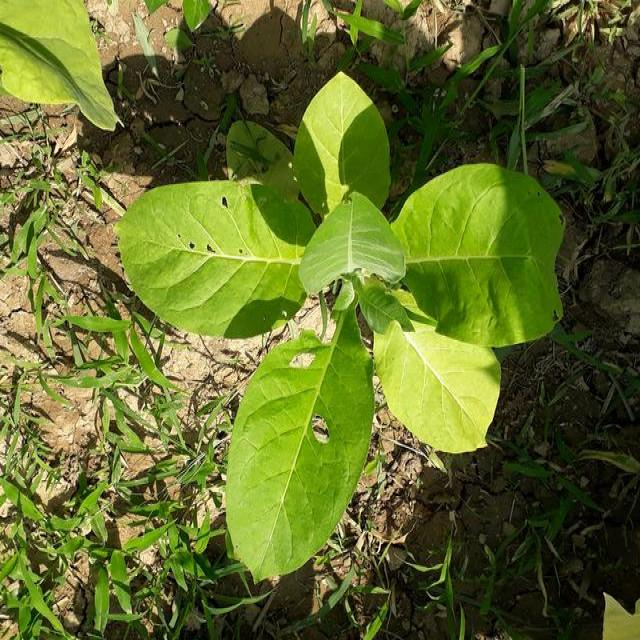crop: (112, 64, 571, 590)
